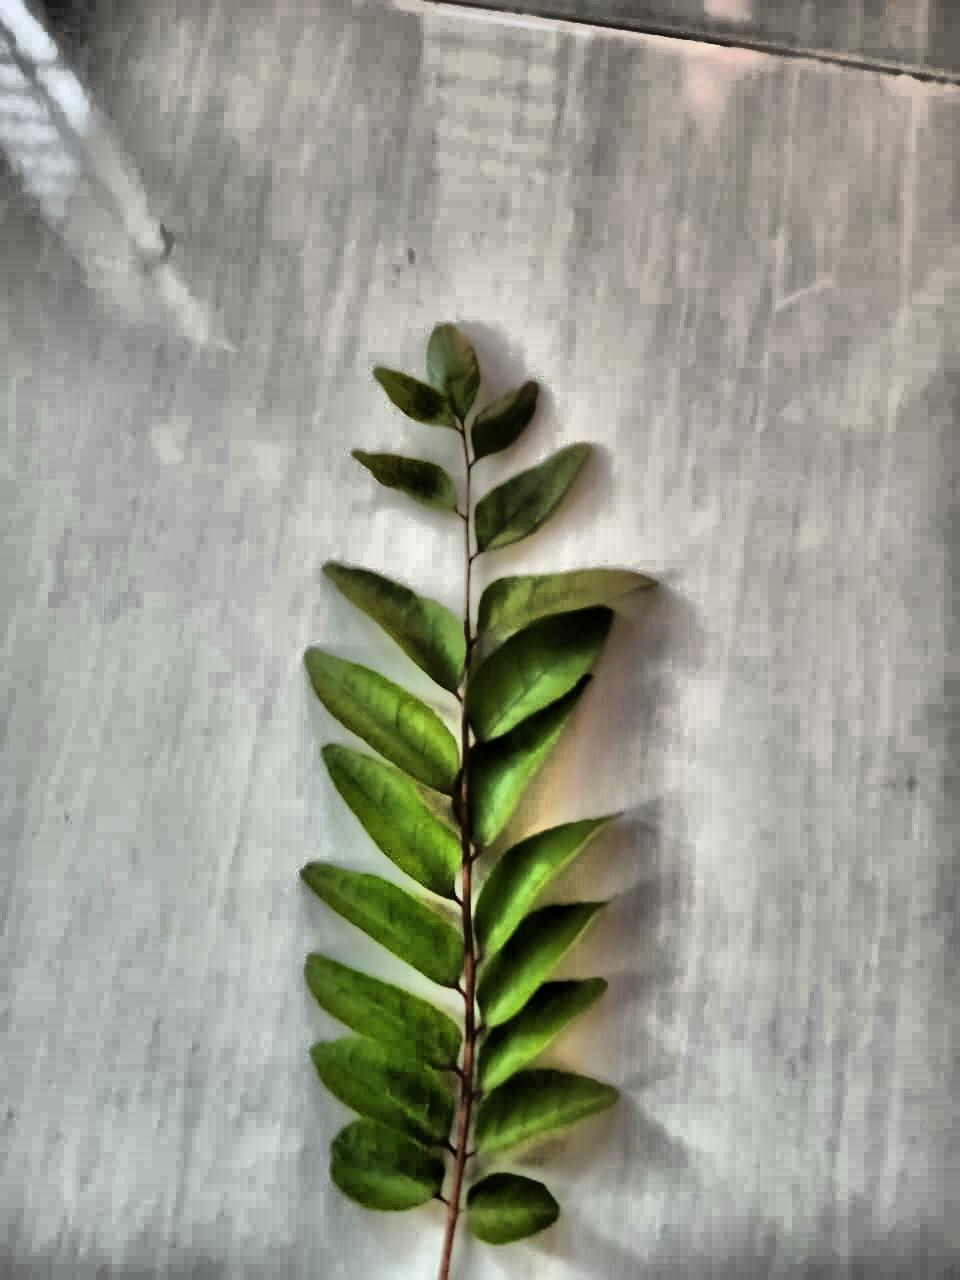daun kari: (302, 325, 655, 1279)
